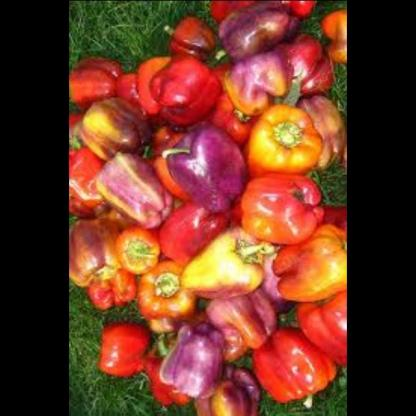bell pepper: (69, 5, 346, 415)
